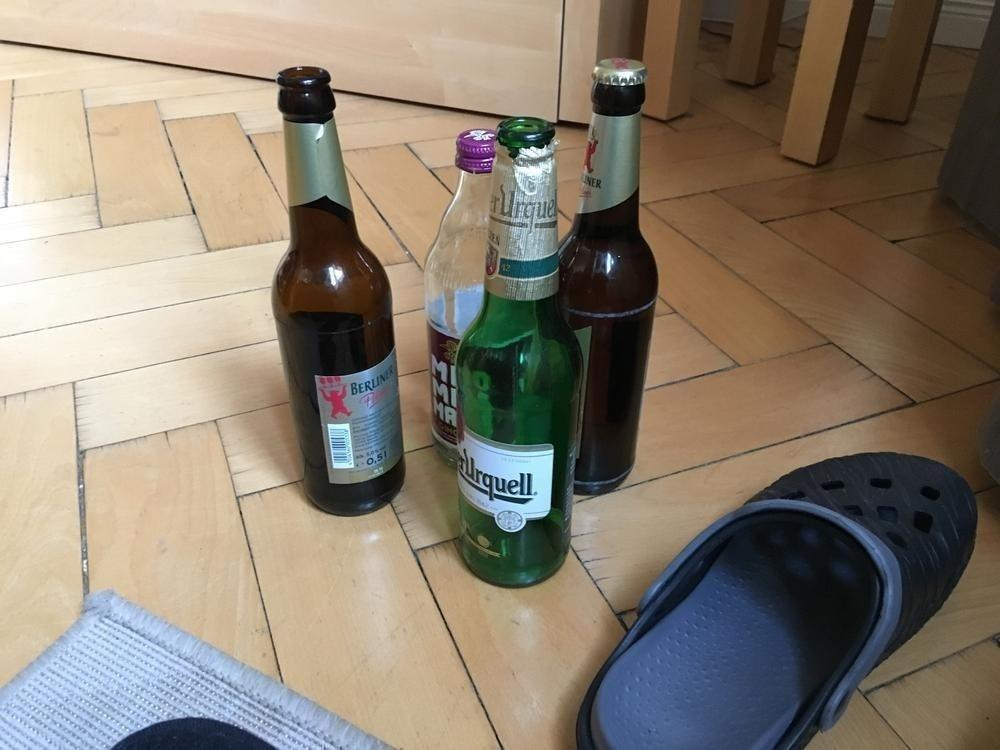bottle-glass: (451, 113, 589, 590), (267, 62, 408, 519), (561, 54, 661, 497), (423, 126, 488, 470)
